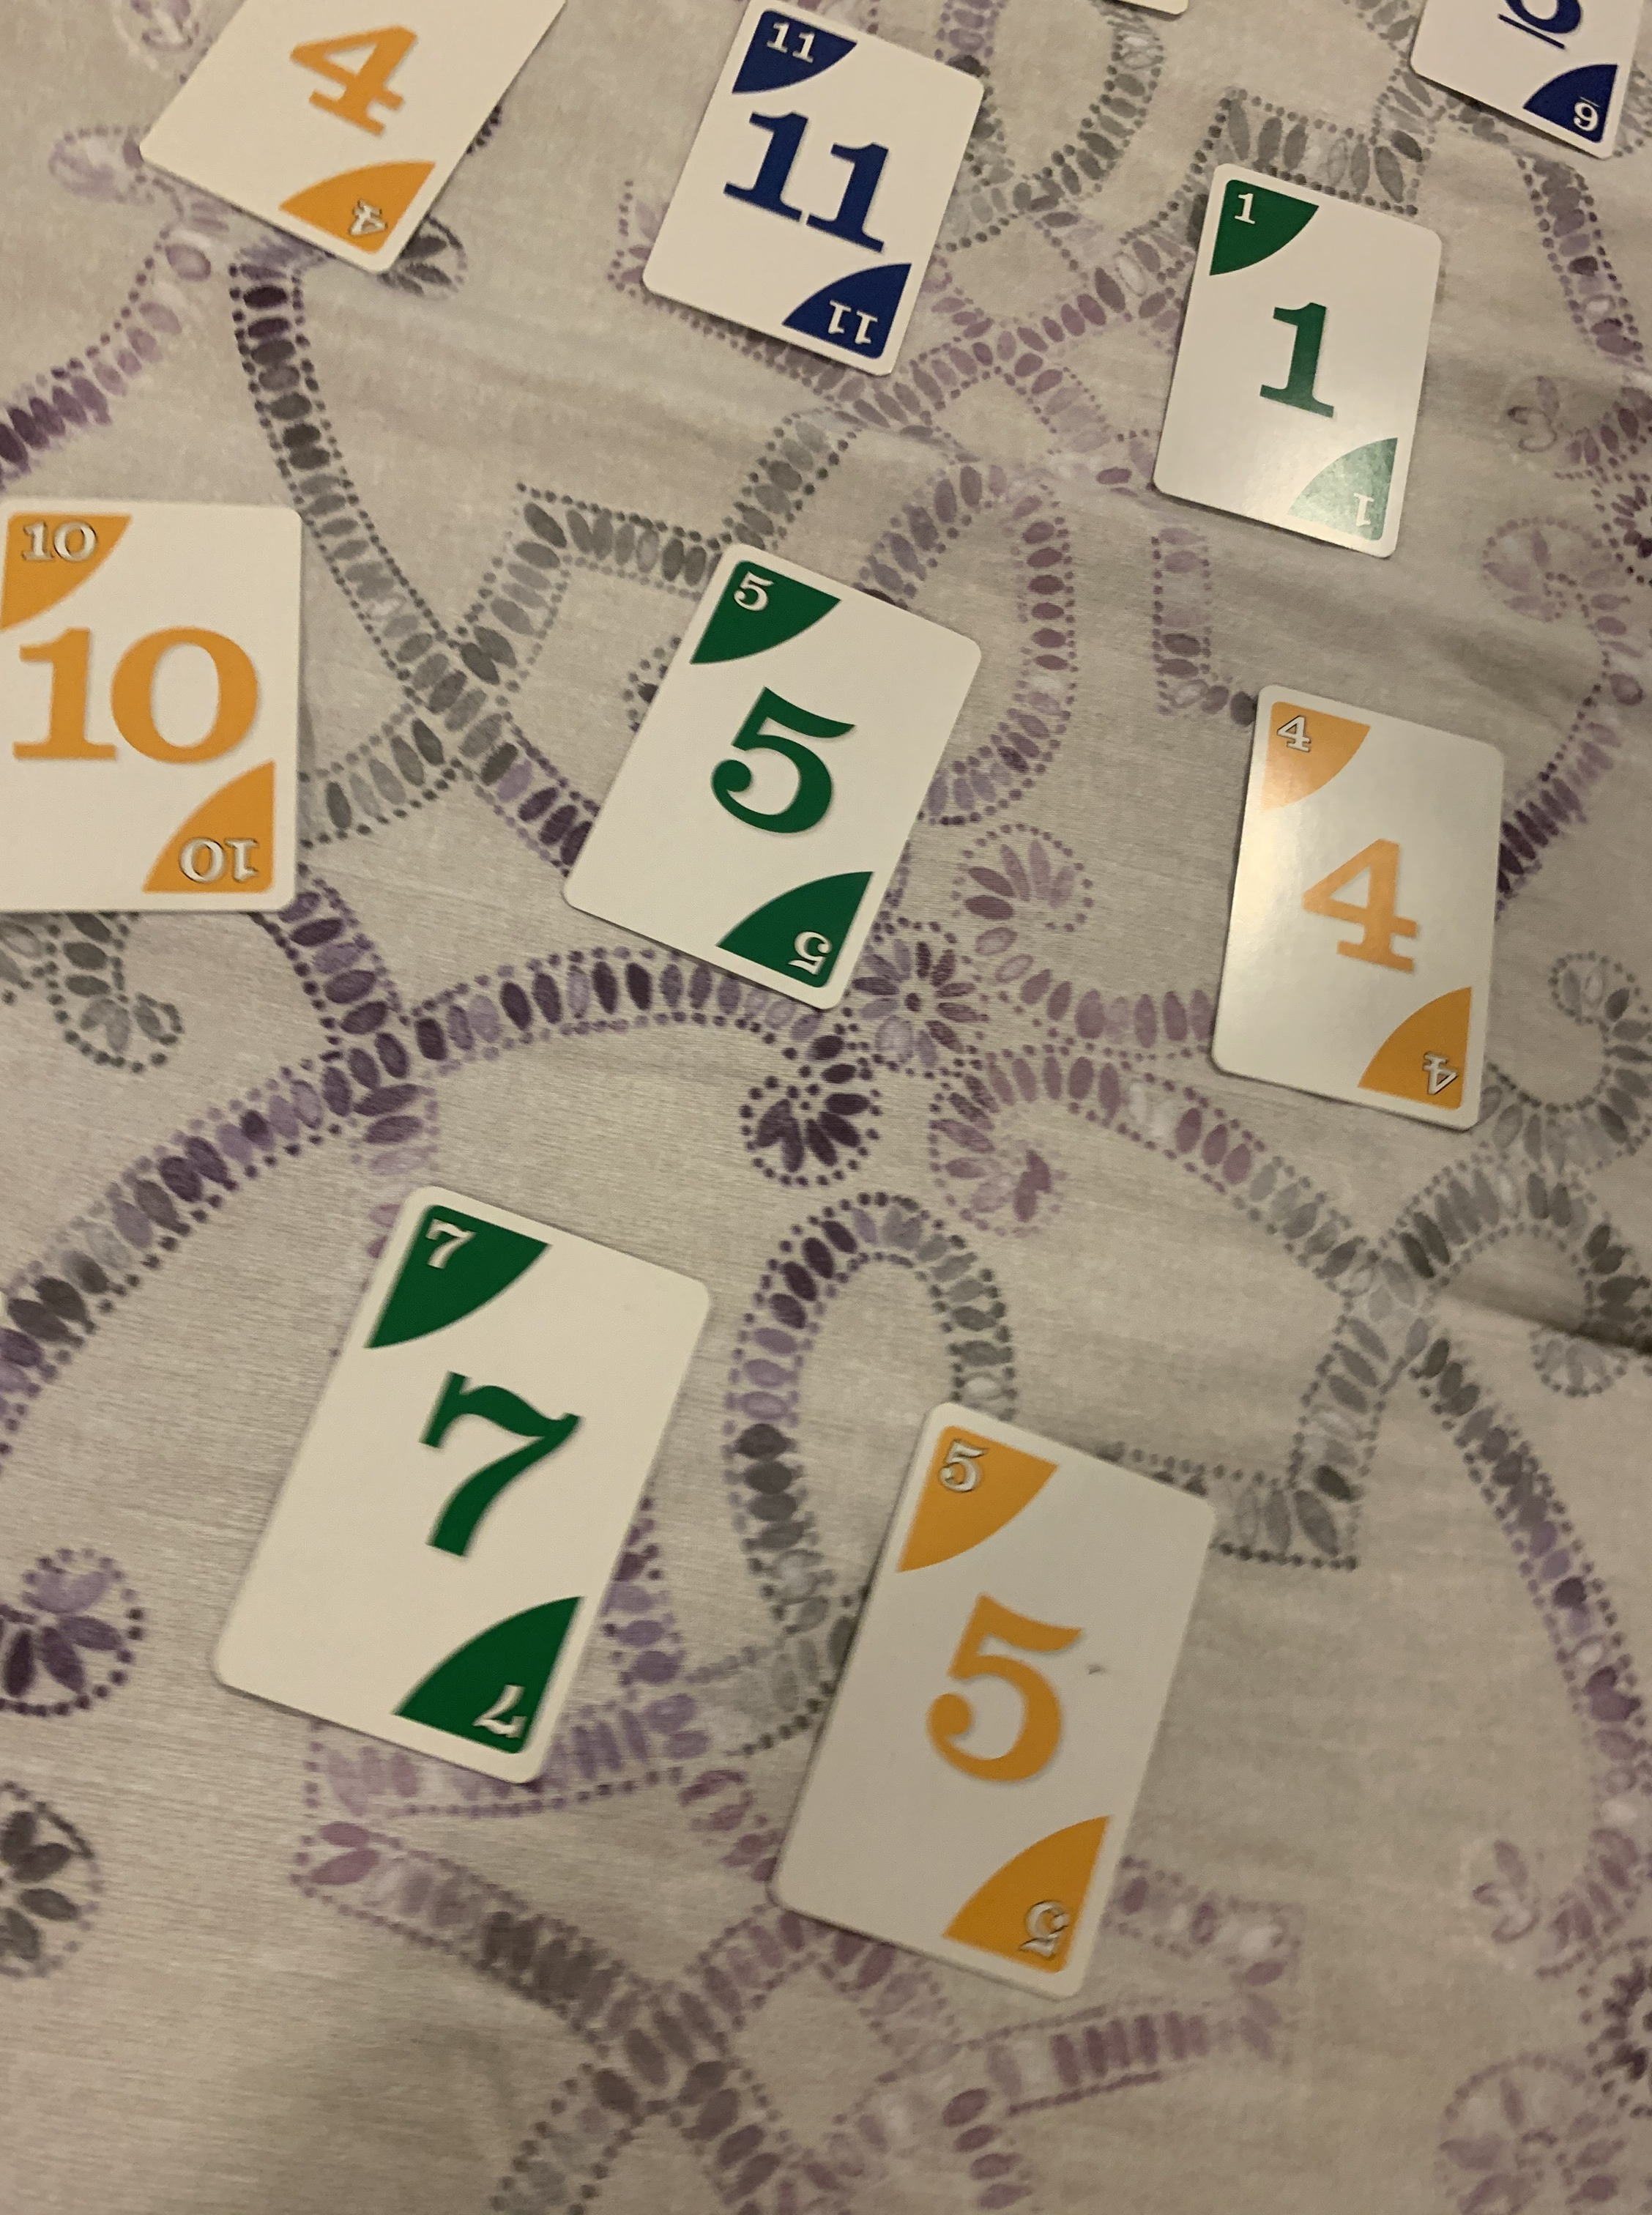eleven: (633, 0, 991, 378)
five: (755, 1396, 1229, 2010), (552, 526, 993, 1005)
four: (1201, 670, 1511, 1142), (132, 0, 588, 283)
one: (1144, 160, 1445, 562)
seven: (220, 1182, 720, 1793)
ten: (0, 495, 316, 918)
